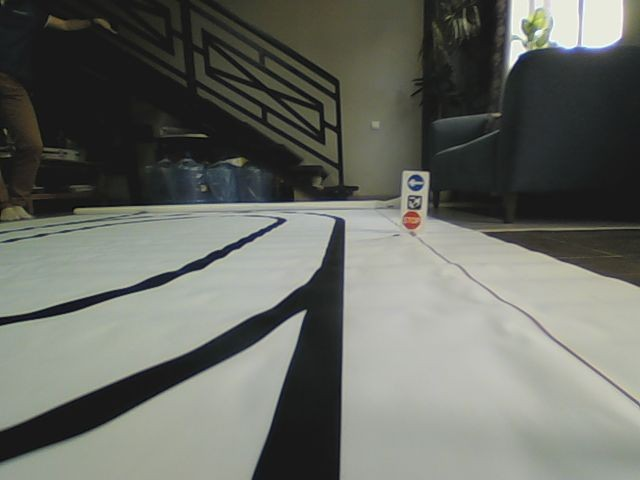Stop: (402, 211, 421, 229)
